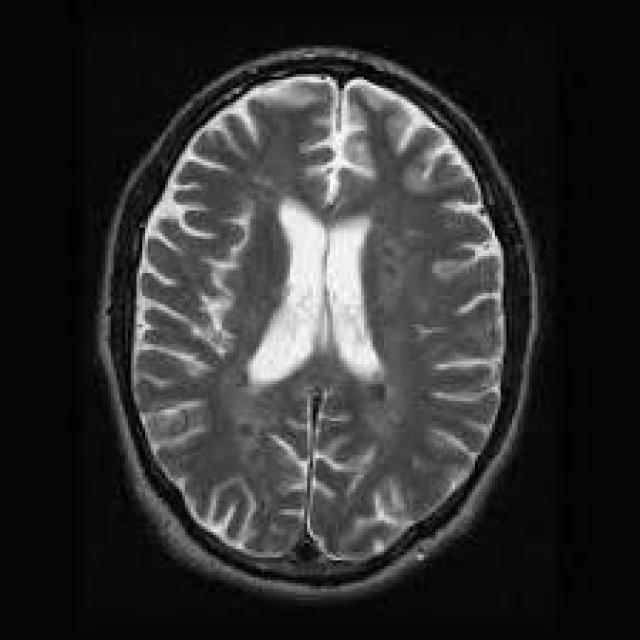no-tumor: (172, 140, 457, 487)
